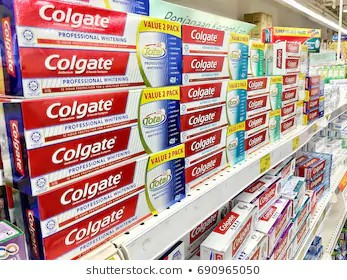colgate-family: (5, 82, 183, 196), (25, 147, 187, 260), (2, 2, 182, 98), (182, 78, 246, 143), (190, 124, 245, 191), (183, 29, 250, 83), (247, 105, 283, 152), (247, 76, 280, 117)
